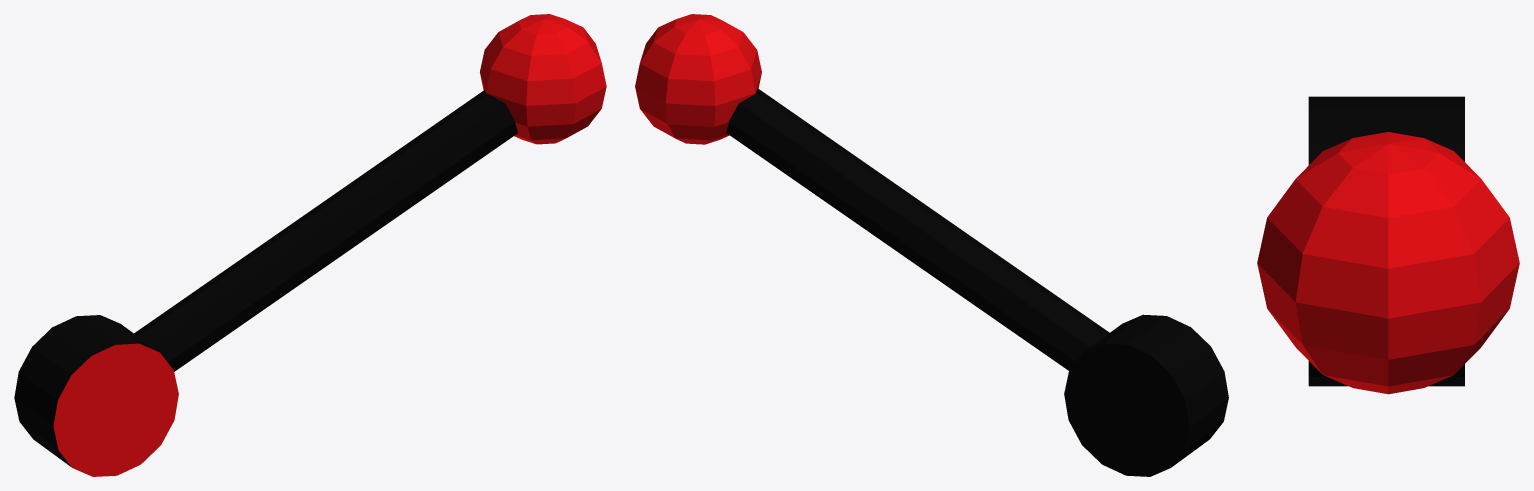
File: Handle.fbx
3 views of the same model, side by side, from view 1: azimuth 30°, elevation 25°; view 2: azimuth 150°, elevation 25°; view 3: azimuth 270°, elevation 25° (orthographic). The views are drawn at different scales.
Parts seen in each view (by area): view 1: Handle; view 2: Handle; view 3: Handle.
Boxes of the visible parts, box(x1,y1,x2,y2) form: Handle: box(14, 14, 606, 476); Handle: box(635, 14, 1228, 476); Handle: box(1257, 96, 1519, 394).
Bounding box in the file's own units: 198 × 111 × 39.81.
